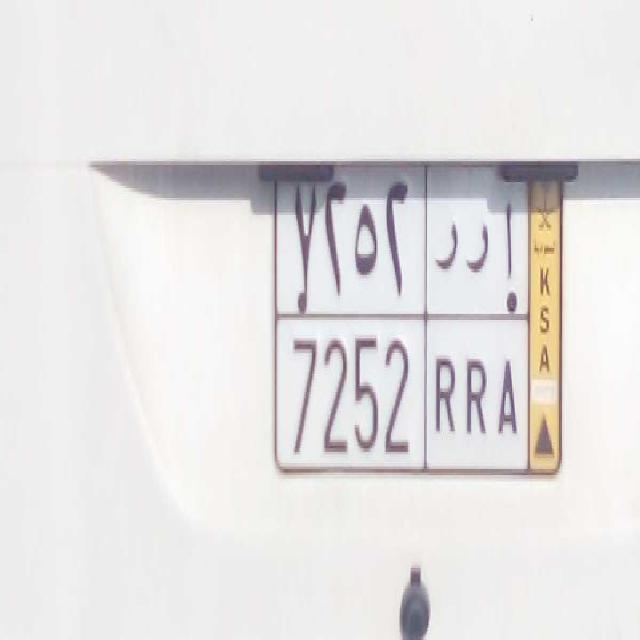license_plate: (275, 308, 529, 472)
